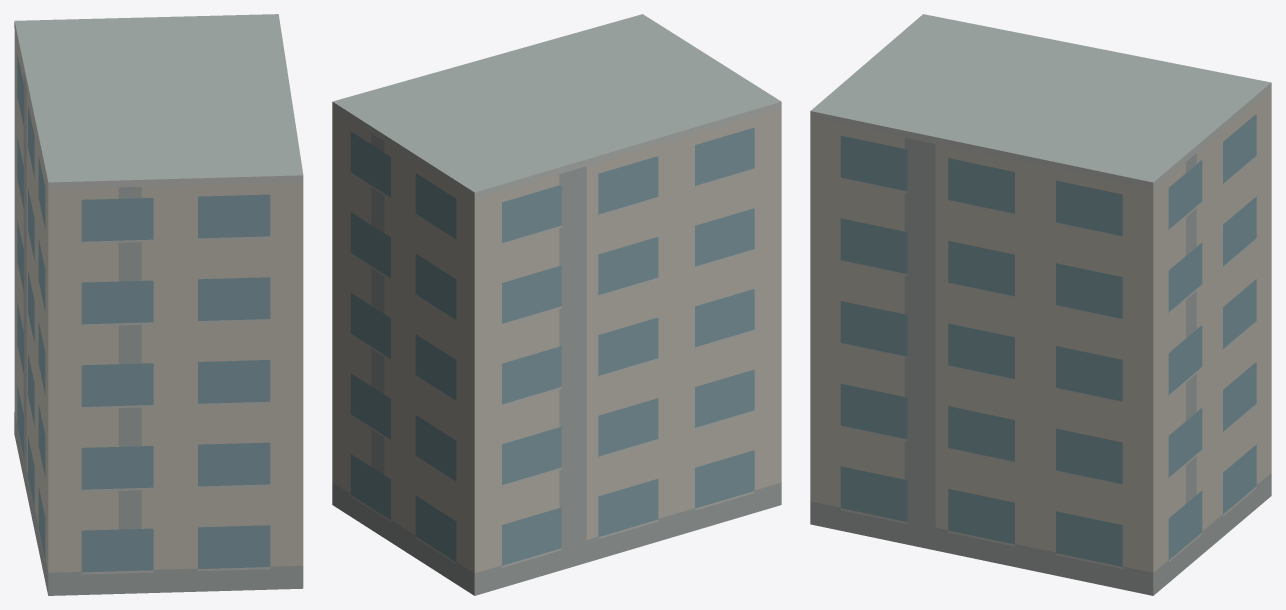
Rendered from survey-upis-32892619.glb.
3 views of the same model, side by side, from view 1: azimuth 30°, elevation 25°; view 2: azimuth 150°, elevation 25°; view 3: azimuth 270°, elevation 25° (orthographic). The views are drawn at different scales.
Parts seen in each view (by area): view 1: survey-upis-32892619.tmp; view 2: survey-upis-32892619.tmp; view 3: survey-upis-32892619.tmp.
Boxes of the visible parts, x1=… form: survey-upis-32892619.tmp: x1=14, y1=14, x2=303, y2=595; survey-upis-32892619.tmp: x1=332, y1=14, x2=781, y2=595; survey-upis-32892619.tmp: x1=810, y1=14, x2=1271, y2=595.
Bounding box in the file's own units: 12.73 × 14.55 × 14.72.
